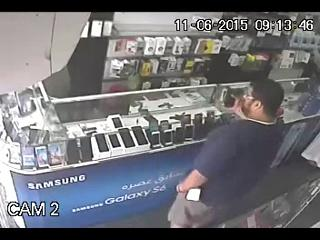shoplifting: (168, 79, 288, 227)
